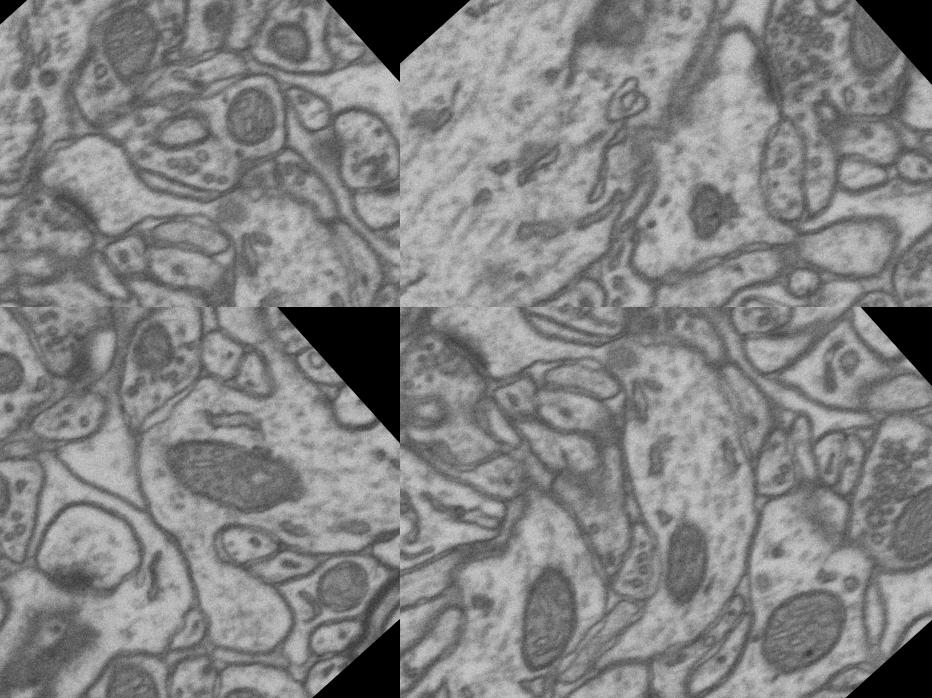mitochondria: (146, 385, 319, 560), (475, 544, 619, 688), (731, 563, 872, 698), (618, 498, 746, 626), (73, 0, 187, 93), (205, 64, 306, 166), (796, 0, 908, 91), (290, 541, 390, 641), (860, 466, 932, 590), (246, 0, 340, 88), (114, 307, 201, 391), (663, 162, 748, 246), (70, 639, 189, 698), (0, 330, 44, 411), (0, 444, 35, 538), (194, 665, 292, 698), (775, 670, 858, 698)
